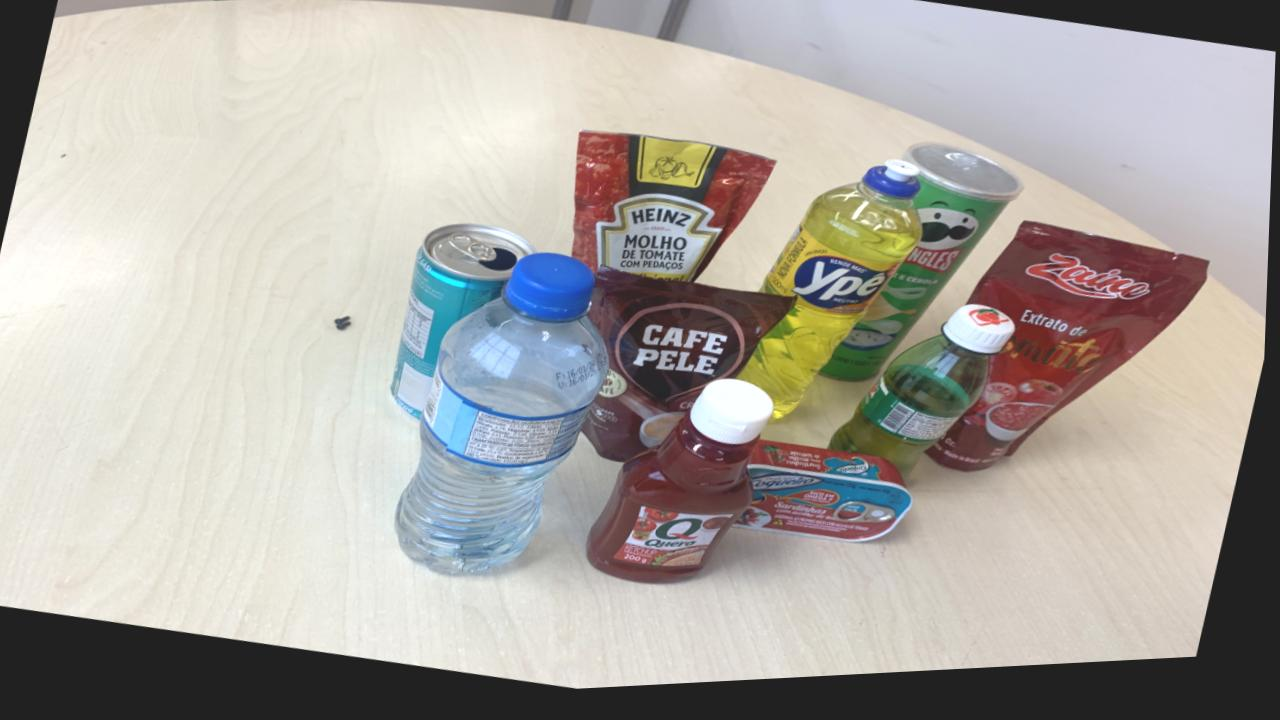Coffee-Pantry_Items: (586, 272, 797, 468)
Detergent-Cleanup_Items: (742, 168, 925, 427)
Guarana-Drinks: (832, 314, 1018, 486)
Ketchup-Pantry_Items: (590, 386, 778, 591)
Pringles-Snacks: (824, 151, 1026, 390)
Tea-Drinks: (394, 228, 536, 421)
Tomato_Sauce-Pantry_Items: (931, 232, 1210, 482), (573, 137, 777, 290)
Tuna_Can-Pantry_Items: (740, 447, 916, 551)
Water_Bottle-Drinks: (399, 260, 612, 578)
